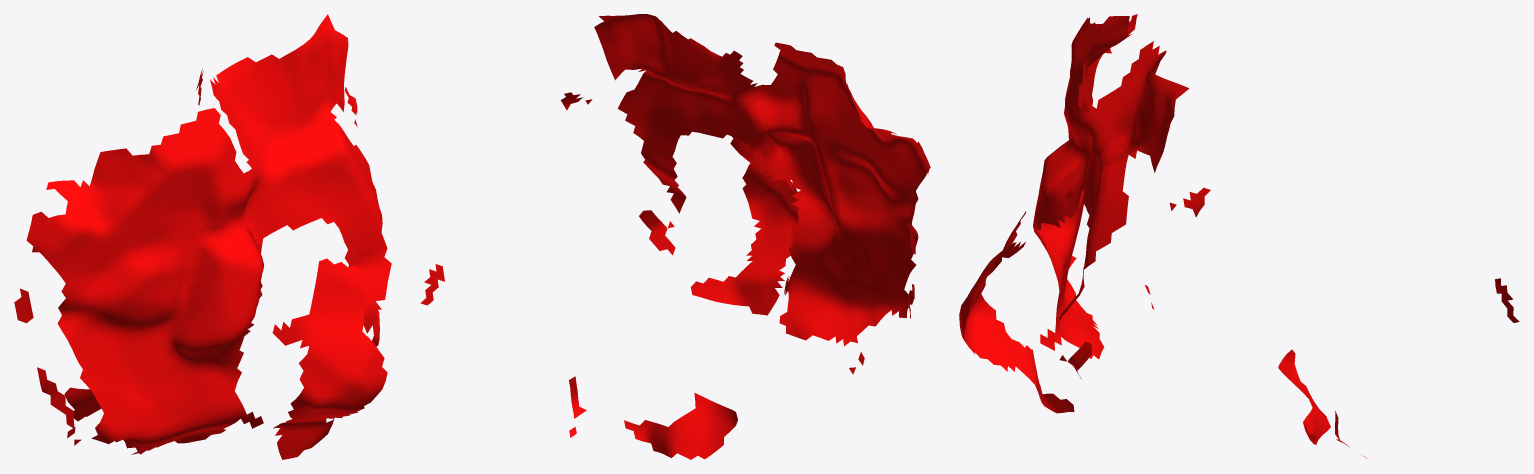
File: SM_GPUI_RockBA_070.fbx
The picture shows the model from 3 angles, left to right: view 1: azimuth 30°, elevation 25°; view 2: azimuth 150°, elevation 25°; view 3: azimuth 270°, elevation 25°; orthographic projection. The views are drawn at different scales.
Visible parts, largest first — view 1: SM_GPUI_RockBA_070; view 2: SM_GPUI_RockBA_070; view 3: SM_GPUI_RockBA_070.
Boxes of the visible parts, left/top/right/bottom form: SM_GPUI_RockBA_070: left=14, top=14, right=391, bottom=459; SM_GPUI_RockBA_070: left=420, top=14, right=930, bottom=459; SM_GPUI_RockBA_070: left=959, top=14, right=1519, bottom=457.
Bounding box in the file's own units: 1032 × 1090 × 1325.
